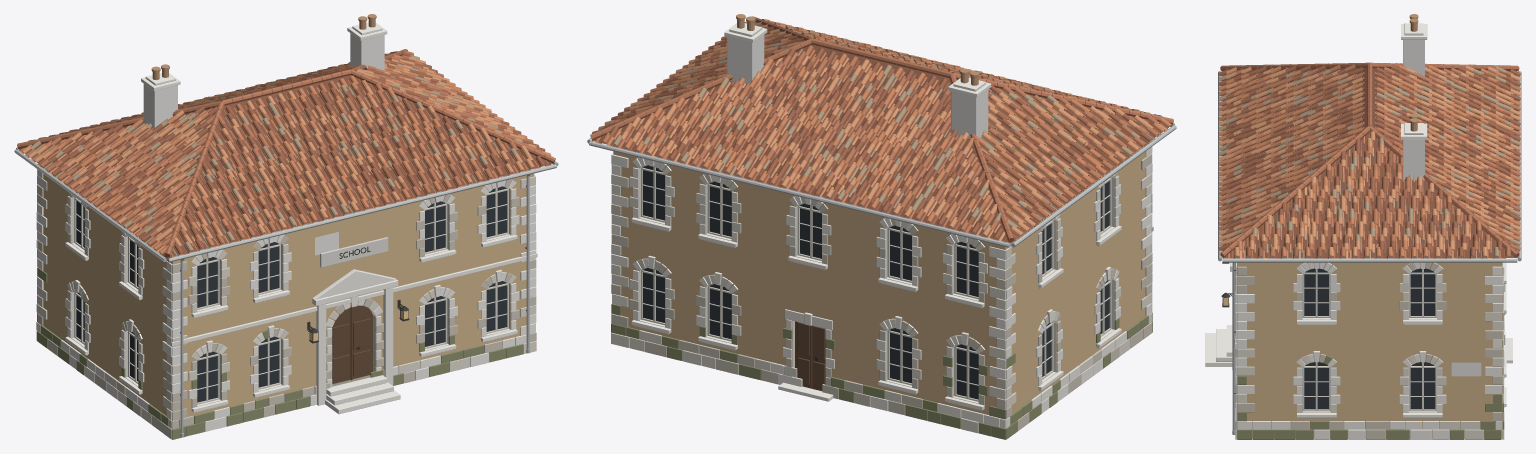
File: School.fbx
The picture shows the model from 3 angles, left to right: view 1: azimuth 30°, elevation 25°; view 2: azimuth 150°, elevation 25°; view 3: azimuth 270°, elevation 25°; orthographic projection. The views are drawn at different scales.
Parts seen in each view (by area): view 1: School; view 2: School; view 3: School.
Boxes of the visible parts, x1,y1,x2,y2 form: School: [14, 14, 558, 439]; School: [587, 14, 1176, 439]; School: [1205, 14, 1521, 439].
Size of the model in its own units: 15.3 by 10.64 by 10.73.
